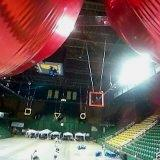Orange_Square_GShape: (89, 91, 104, 107)
Yellow_Circle_GShape: (80, 112, 86, 120)
Yellow_Square_GShape: (24, 108, 32, 116)
Yellow_Triangle_Gshape: (54, 112, 61, 119)
